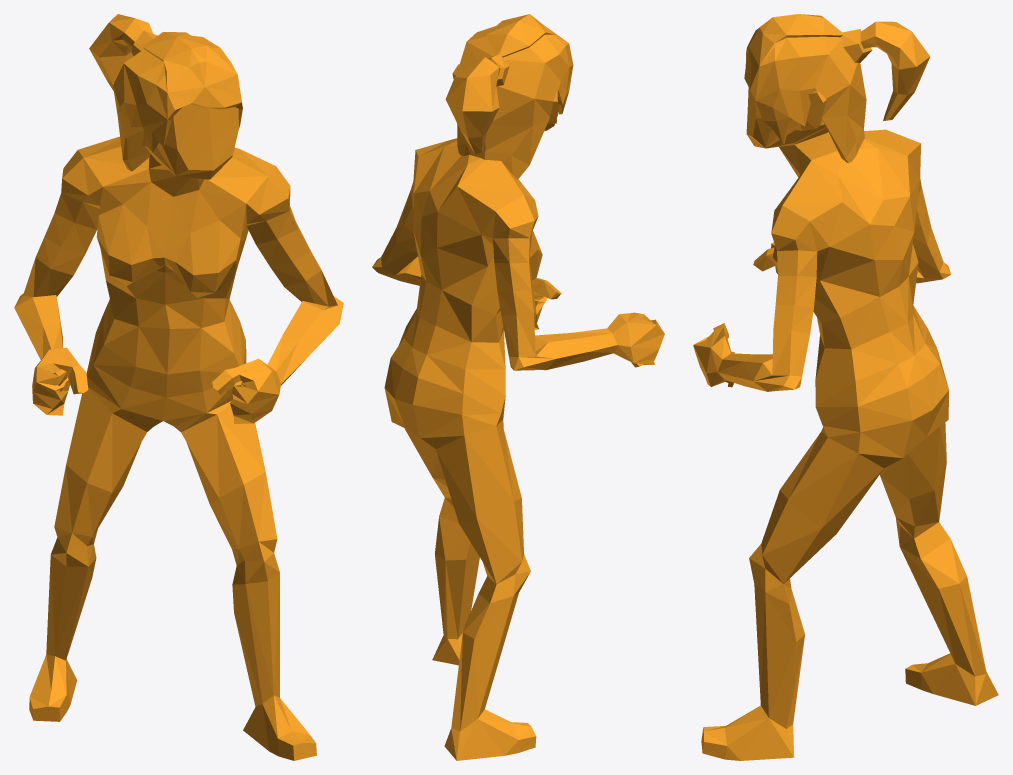
Rendered from SM_Pawn_Idle_Female_01.fbx.
The picture shows the model from 3 angles, left to right: view 1: azimuth 30°, elevation 25°; view 2: azimuth 150°, elevation 25°; view 3: azimuth 270°, elevation 25°; orthographic projection. The views are drawn at different scales.
Parts seen in each view (by area): view 1: SM_Pawn_Idle_Female_01; view 2: SM_Pawn_Idle_Female_01; view 3: SM_Pawn_Idle_Female_01.
Part boxes in pixels (x1,y1,x2,y2): SM_Pawn_Idle_Female_01: (14,14,343,760); SM_Pawn_Idle_Female_01: (372,14,664,760); SM_Pawn_Idle_Female_01: (693,14,998,760).
Bounding box in the file's own units: 79.44 × 175 × 69.39.
